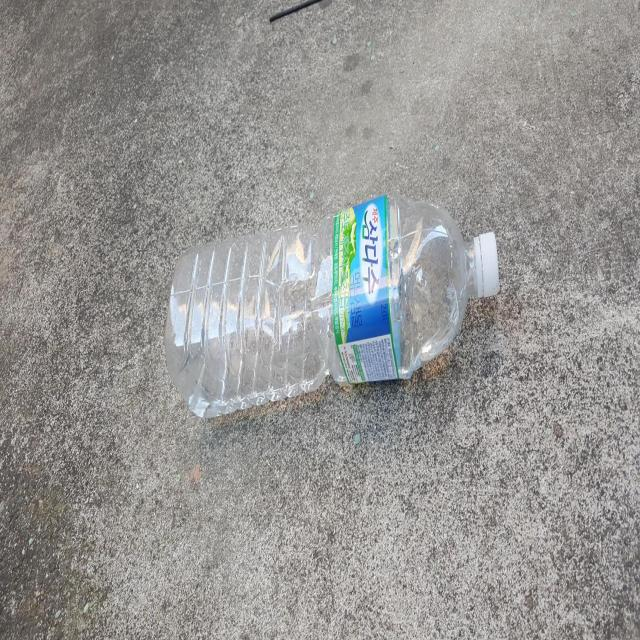plastic: (165, 193, 500, 417)
